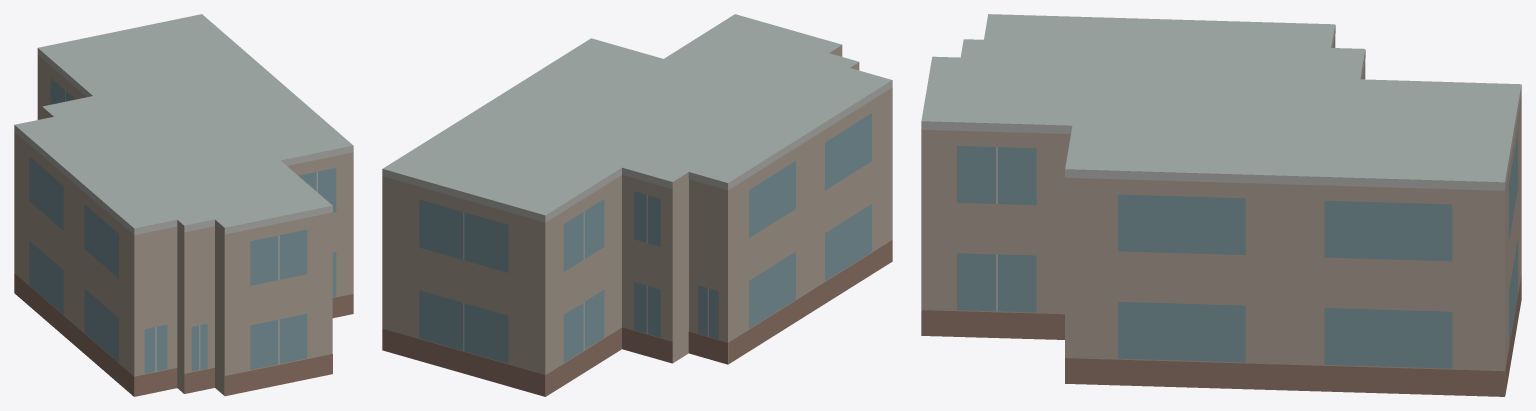
The model's file is survey-upis-32800166.glb.
3 renders of one model, left to right at view 1: azimuth 30°, elevation 25°; view 2: azimuth 150°, elevation 25°; view 3: azimuth 270°, elevation 25°, orthographic. The views are drawn at different scales.
Parts seen in each view (by area): view 1: survey-upis-32800166.tmp; view 2: survey-upis-32800166.tmp; view 3: survey-upis-32800166.tmp.
Part boxes in pixels (x1,y1,x2,y2): survey-upis-32800166.tmp: (14, 14, 353, 396); survey-upis-32800166.tmp: (382, 14, 892, 396); survey-upis-32800166.tmp: (921, 14, 1521, 396).
Size of the model in its own units: 10.27 by 6.1 by 15.48.
